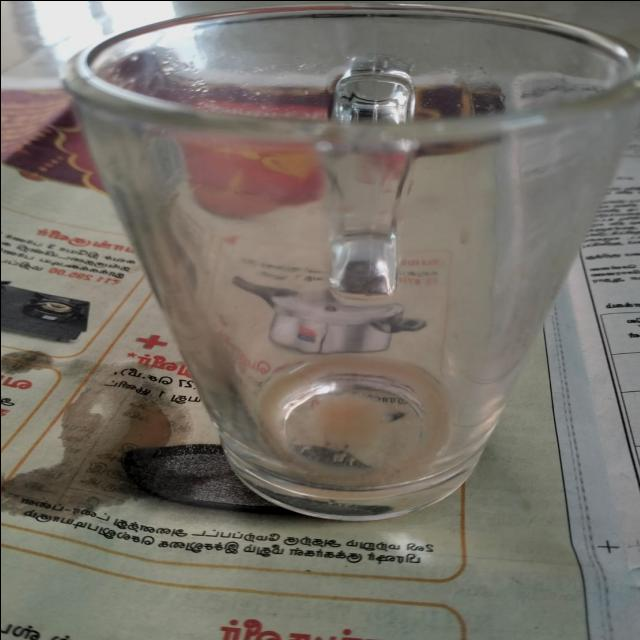glass-VX4N: (60, 2, 640, 524)
